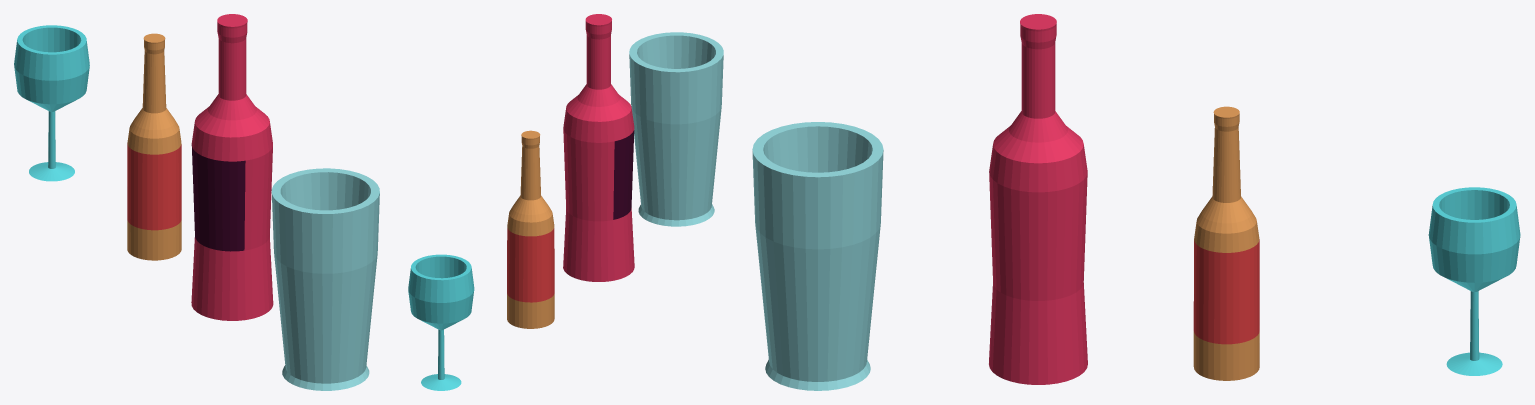
The model's file is Alcohol.fbx.
The picture shows the model from 3 angles, left to right: view 1: azimuth 30°, elevation 25°; view 2: azimuth 150°, elevation 25°; view 3: azimuth 270°, elevation 25°; orthographic projection. The views are drawn at different scales.
Visible parts, largest first — view 1: Pint Glass, Beer Bottle, Wine Bottle, Cylinder; view 2: Pint Glass, Beer Bottle, Wine Bottle, Cylinder; view 3: Pint Glass, Beer Bottle, Wine Bottle, Cylinder.
Part boxes in pixels (x1=…): Pint Glass: x1=271, y1=168, x2=379, y2=390; Beer Bottle: x1=191, y1=14, x2=273, y2=320; Wine Bottle: x1=127, y1=33, x2=181, y2=260; Cylinder: x1=14, y1=25, x2=89, y2=181; Pint Glass: x1=629, y1=32, x2=723, y2=226; Beer Bottle: x1=563, y1=14, x2=634, y2=281; Wine Bottle: x1=507, y1=130, x2=554, y2=328; Cylinder: x1=408, y1=254, x2=474, y2=390; Pint Glass: x1=752, y1=122, x2=883, y2=390; Beer Bottle: x1=989, y1=14, x2=1087, y2=384; Wine Bottle: x1=1193, y1=106, x2=1259, y2=380; Cylinder: x1=1428, y1=187, x2=1520, y2=375.
Size of the model in its own units: 681 by 1981 by 3991.
